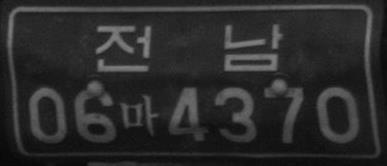0: (316, 85, 360, 144), (28, 85, 67, 143)
3: (214, 86, 257, 143)
4: (167, 86, 209, 141)
6: (73, 86, 117, 144)
7: (262, 85, 305, 144)
마: (118, 92, 159, 138)
전남_D: (94, 22, 283, 73)
